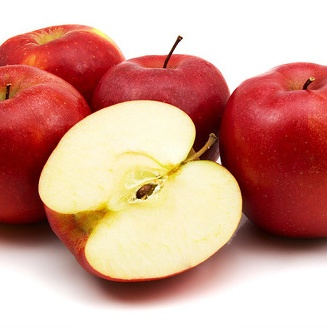apple: (45, 95, 240, 286), (218, 58, 327, 244), (95, 55, 224, 169), (1, 63, 91, 222), (1, 25, 124, 110)
